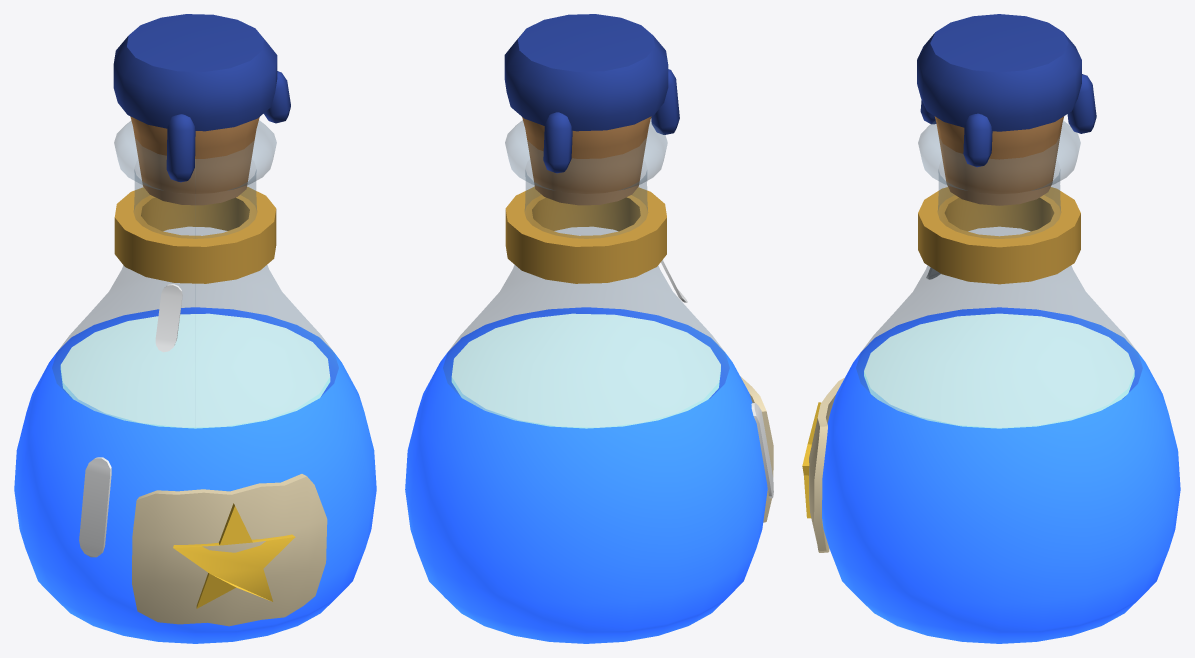
The model's file is item_mana_draught.glb.
3 renders of one model, left to right at view 1: azimuth 30°, elevation 25°; view 2: azimuth 150°, elevation 25°; view 3: azimuth 270°, elevation 25°, orthographic.
Parts seen in each view (by area): view 1: ManaDraught; view 2: ManaDraught; view 3: ManaDraught.
Part boxes in pixels (left/top/right/bottom): ManaDraught: left=14, top=14, right=376, bottom=643; ManaDraught: left=405, top=14, right=773, bottom=643; ManaDraught: left=802, top=14, right=1180, bottom=643.
Bounding box in the file's own units: 0.178 × 0.301 × 0.1858.
